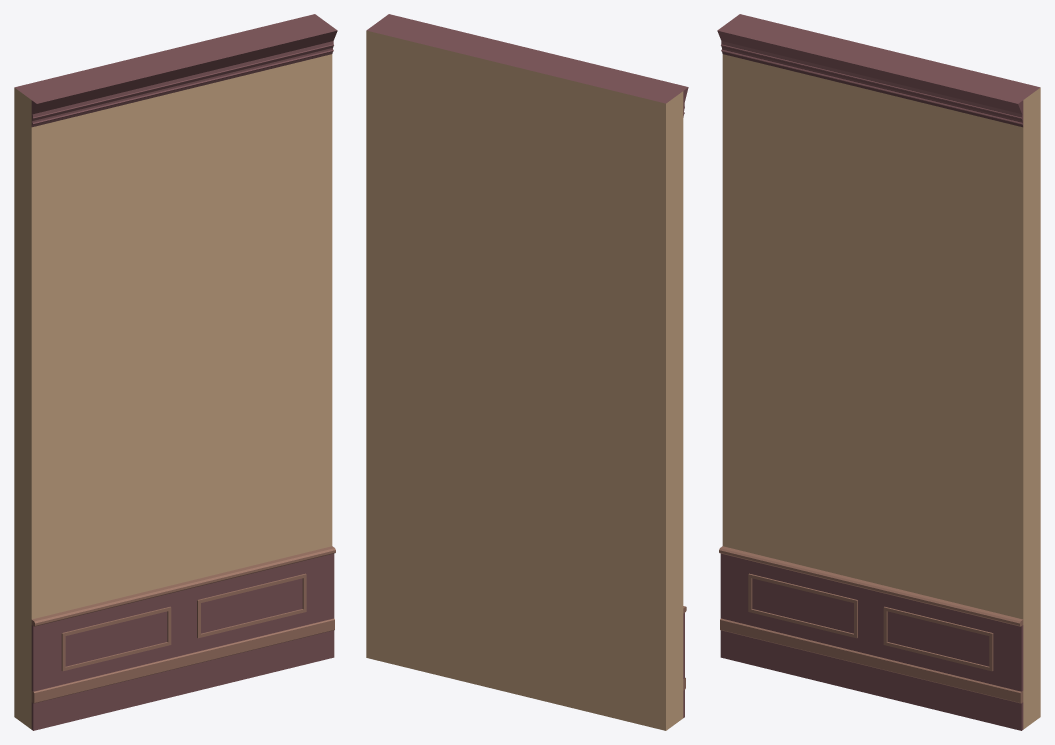
Rendered from wall2.glb.
3 renders of one model, left to right at view 1: azimuth 30°, elevation 25°; view 2: azimuth 150°, elevation 25°; view 3: azimuth 330°, elevation 25°, orthographic.
Visible parts, largest first — view 1: WallBig2; view 2: WallBig2; view 3: WallBig2.
Part boxes in pixels (x1,y1,x2,y2): WallBig2: (14,14,337,730); WallBig2: (366,14,688,730); WallBig2: (717,14,1040,730).
Bounding box in the file's own units: 2 × 4 × 0.2611.
Materials: 1 (1 with a texture image).
